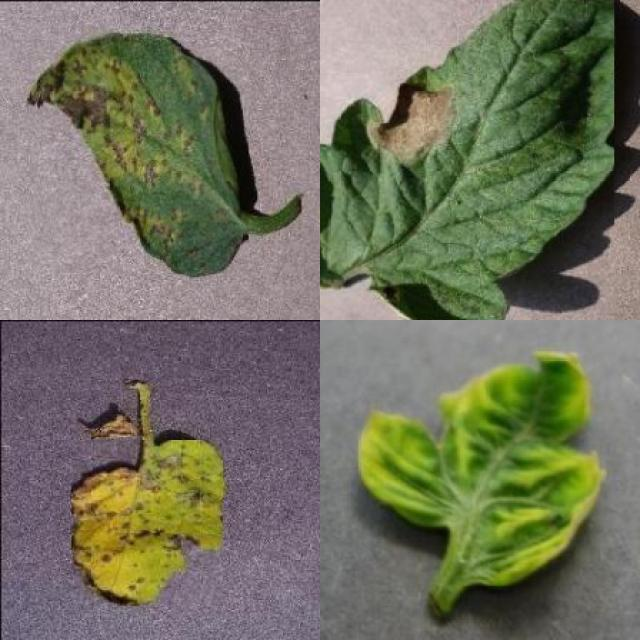Late Blight: (320, 0, 614, 320)
Septoria: (28, 31, 248, 275), (71, 440, 223, 606)
Yellow Leaf Curl Virus: (359, 348, 607, 586)
